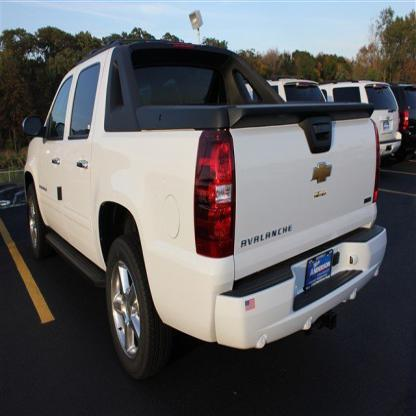Vehicle: (24, 43, 389, 383)
